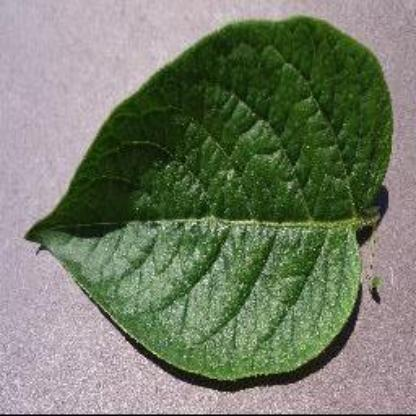Healthy-plant: (17, 12, 388, 388)
